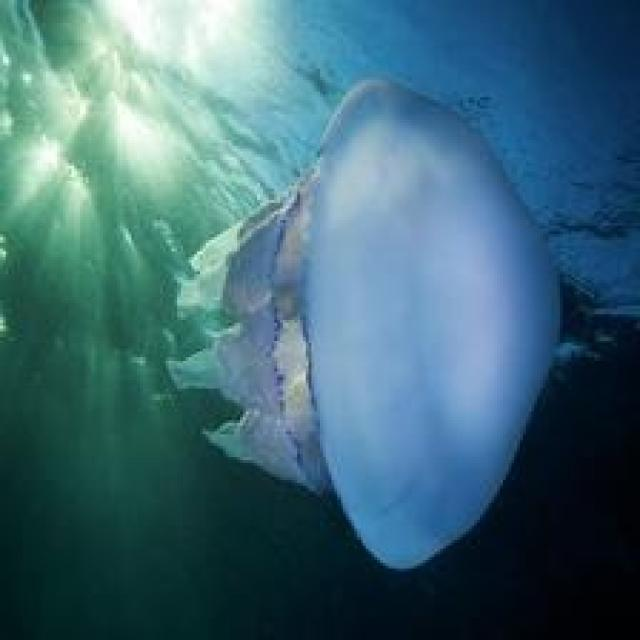Box-jellyfish: (160, 74, 563, 569)
